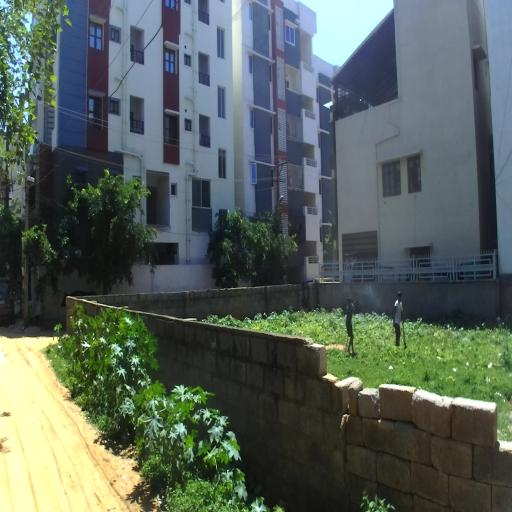street_light_0: (24, 176, 35, 202)
